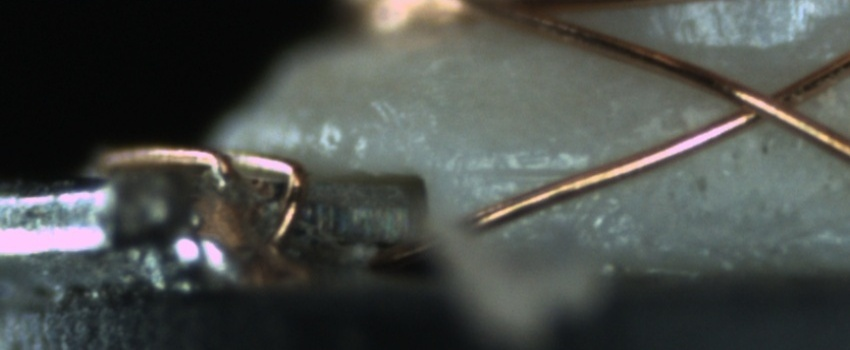CL: (710, 69, 825, 136)
DL: (459, 137, 599, 199)
TE: (91, 137, 312, 255)
